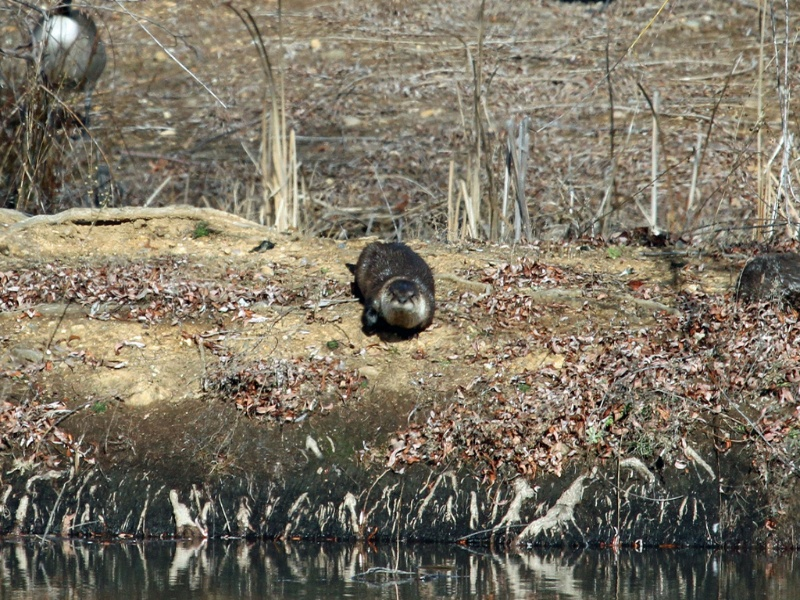minkish: (337, 234, 439, 340)
